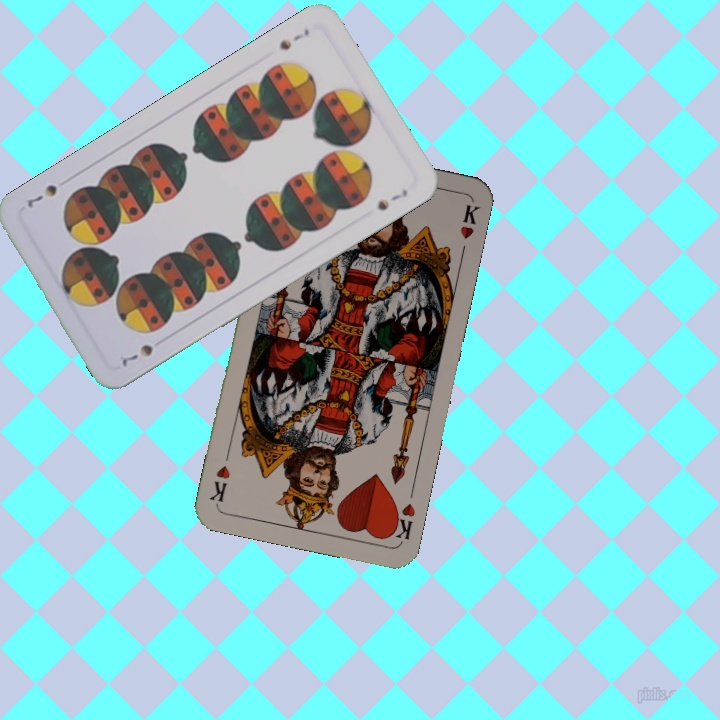HK: (385, 499, 418, 544)
S7: (117, 340, 155, 369), (275, 24, 312, 53)
